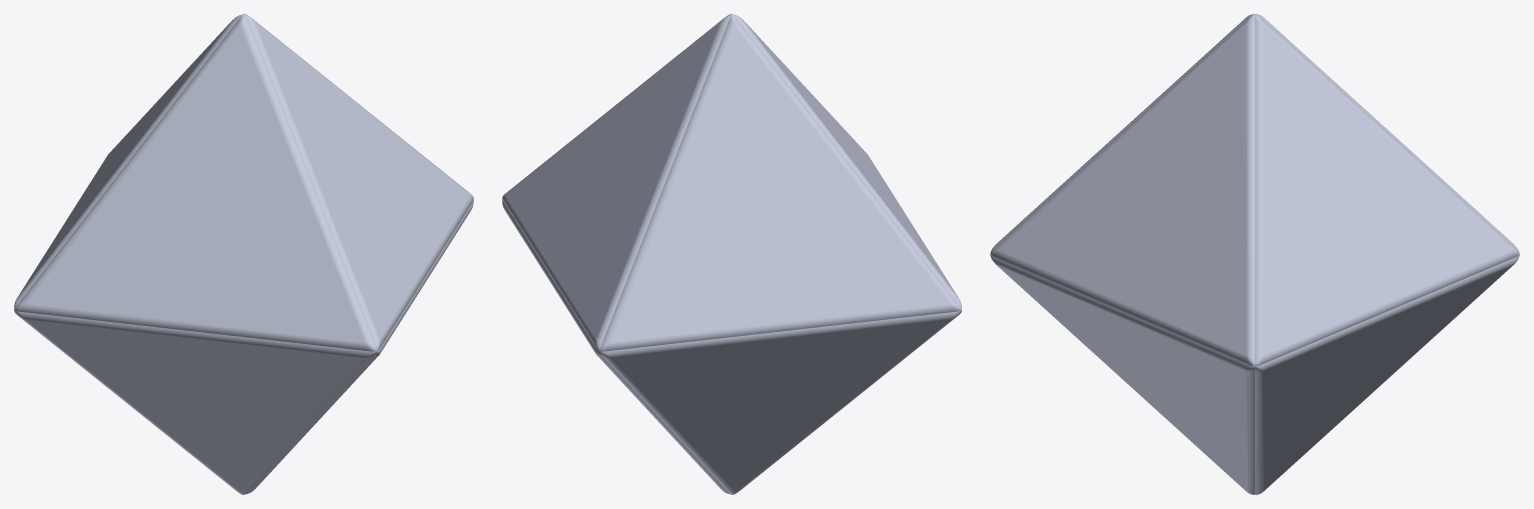
The model's file is octahedron.glb.
3 renders of one model, left to right at view 1: azimuth 30°, elevation 25°; view 2: azimuth 150°, elevation 25°; view 3: azimuth 270°, elevation 25°, orthographic.
Visible parts, largest first — view 1: facet_02.002, facet_06.002, facet_03.002, facet_01.002, facet_07.002; view 2: facet_01.002, facet_05.002, facet_00.002, facet_02.002, facet_04.002; view 3: facet_00.002, facet_03.002, facet_04.002, facet_07.002, facet_01.002, facet_02.002.
Part boxes in pixels (box(x1,y1,x2,y2)): facet_02.002: box(14, 14, 378, 353); facet_06.002: box(14, 305, 378, 494); facet_03.002: box(239, 14, 473, 354); facet_01.002: box(14, 15, 248, 314); facet_07.002: box(246, 200, 473, 494); facet_01.002: box(597, 14, 961, 353); facet_05.002: box(597, 305, 961, 494); facet_00.002: box(502, 14, 736, 354); facet_02.002: box(727, 15, 961, 314); facet_04.002: box(502, 200, 729, 494); facet_00.002: box(1250, 14, 1519, 369); facet_03.002: box(990, 14, 1259, 369); facet_04.002: box(1250, 250, 1519, 494); facet_07.002: box(990, 250, 1259, 494); facet_01.002: box(1251, 14, 1519, 258); facet_02.002: box(990, 14, 1258, 258).
Size of the model in its own units: 3.57 by 3.57 by 3.57.
